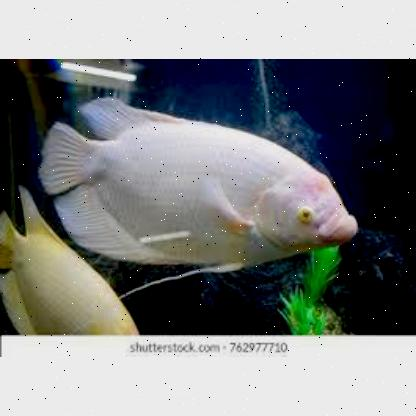gurame: (49, 97, 356, 277)
